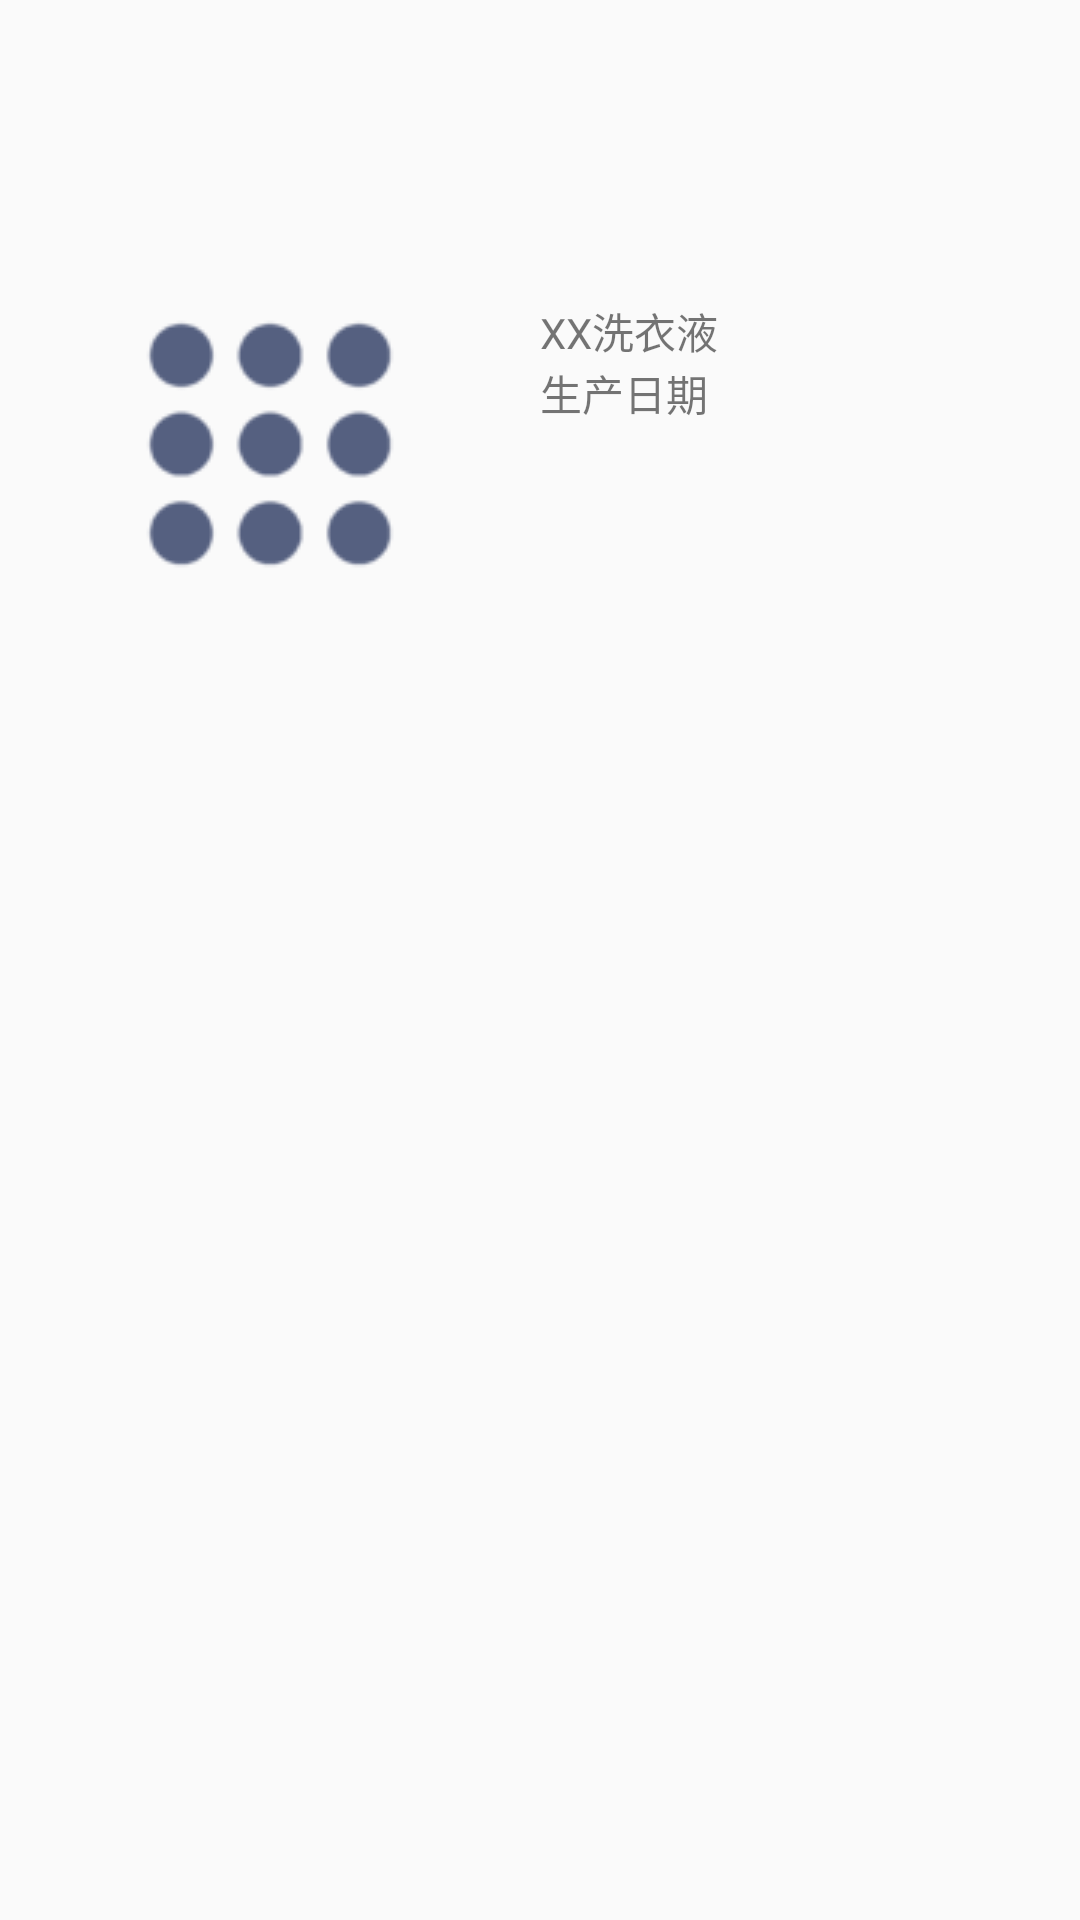

Icon click points for this 1080*1920 phone screenshot, format point (x, y):
menu: point (270, 444)
